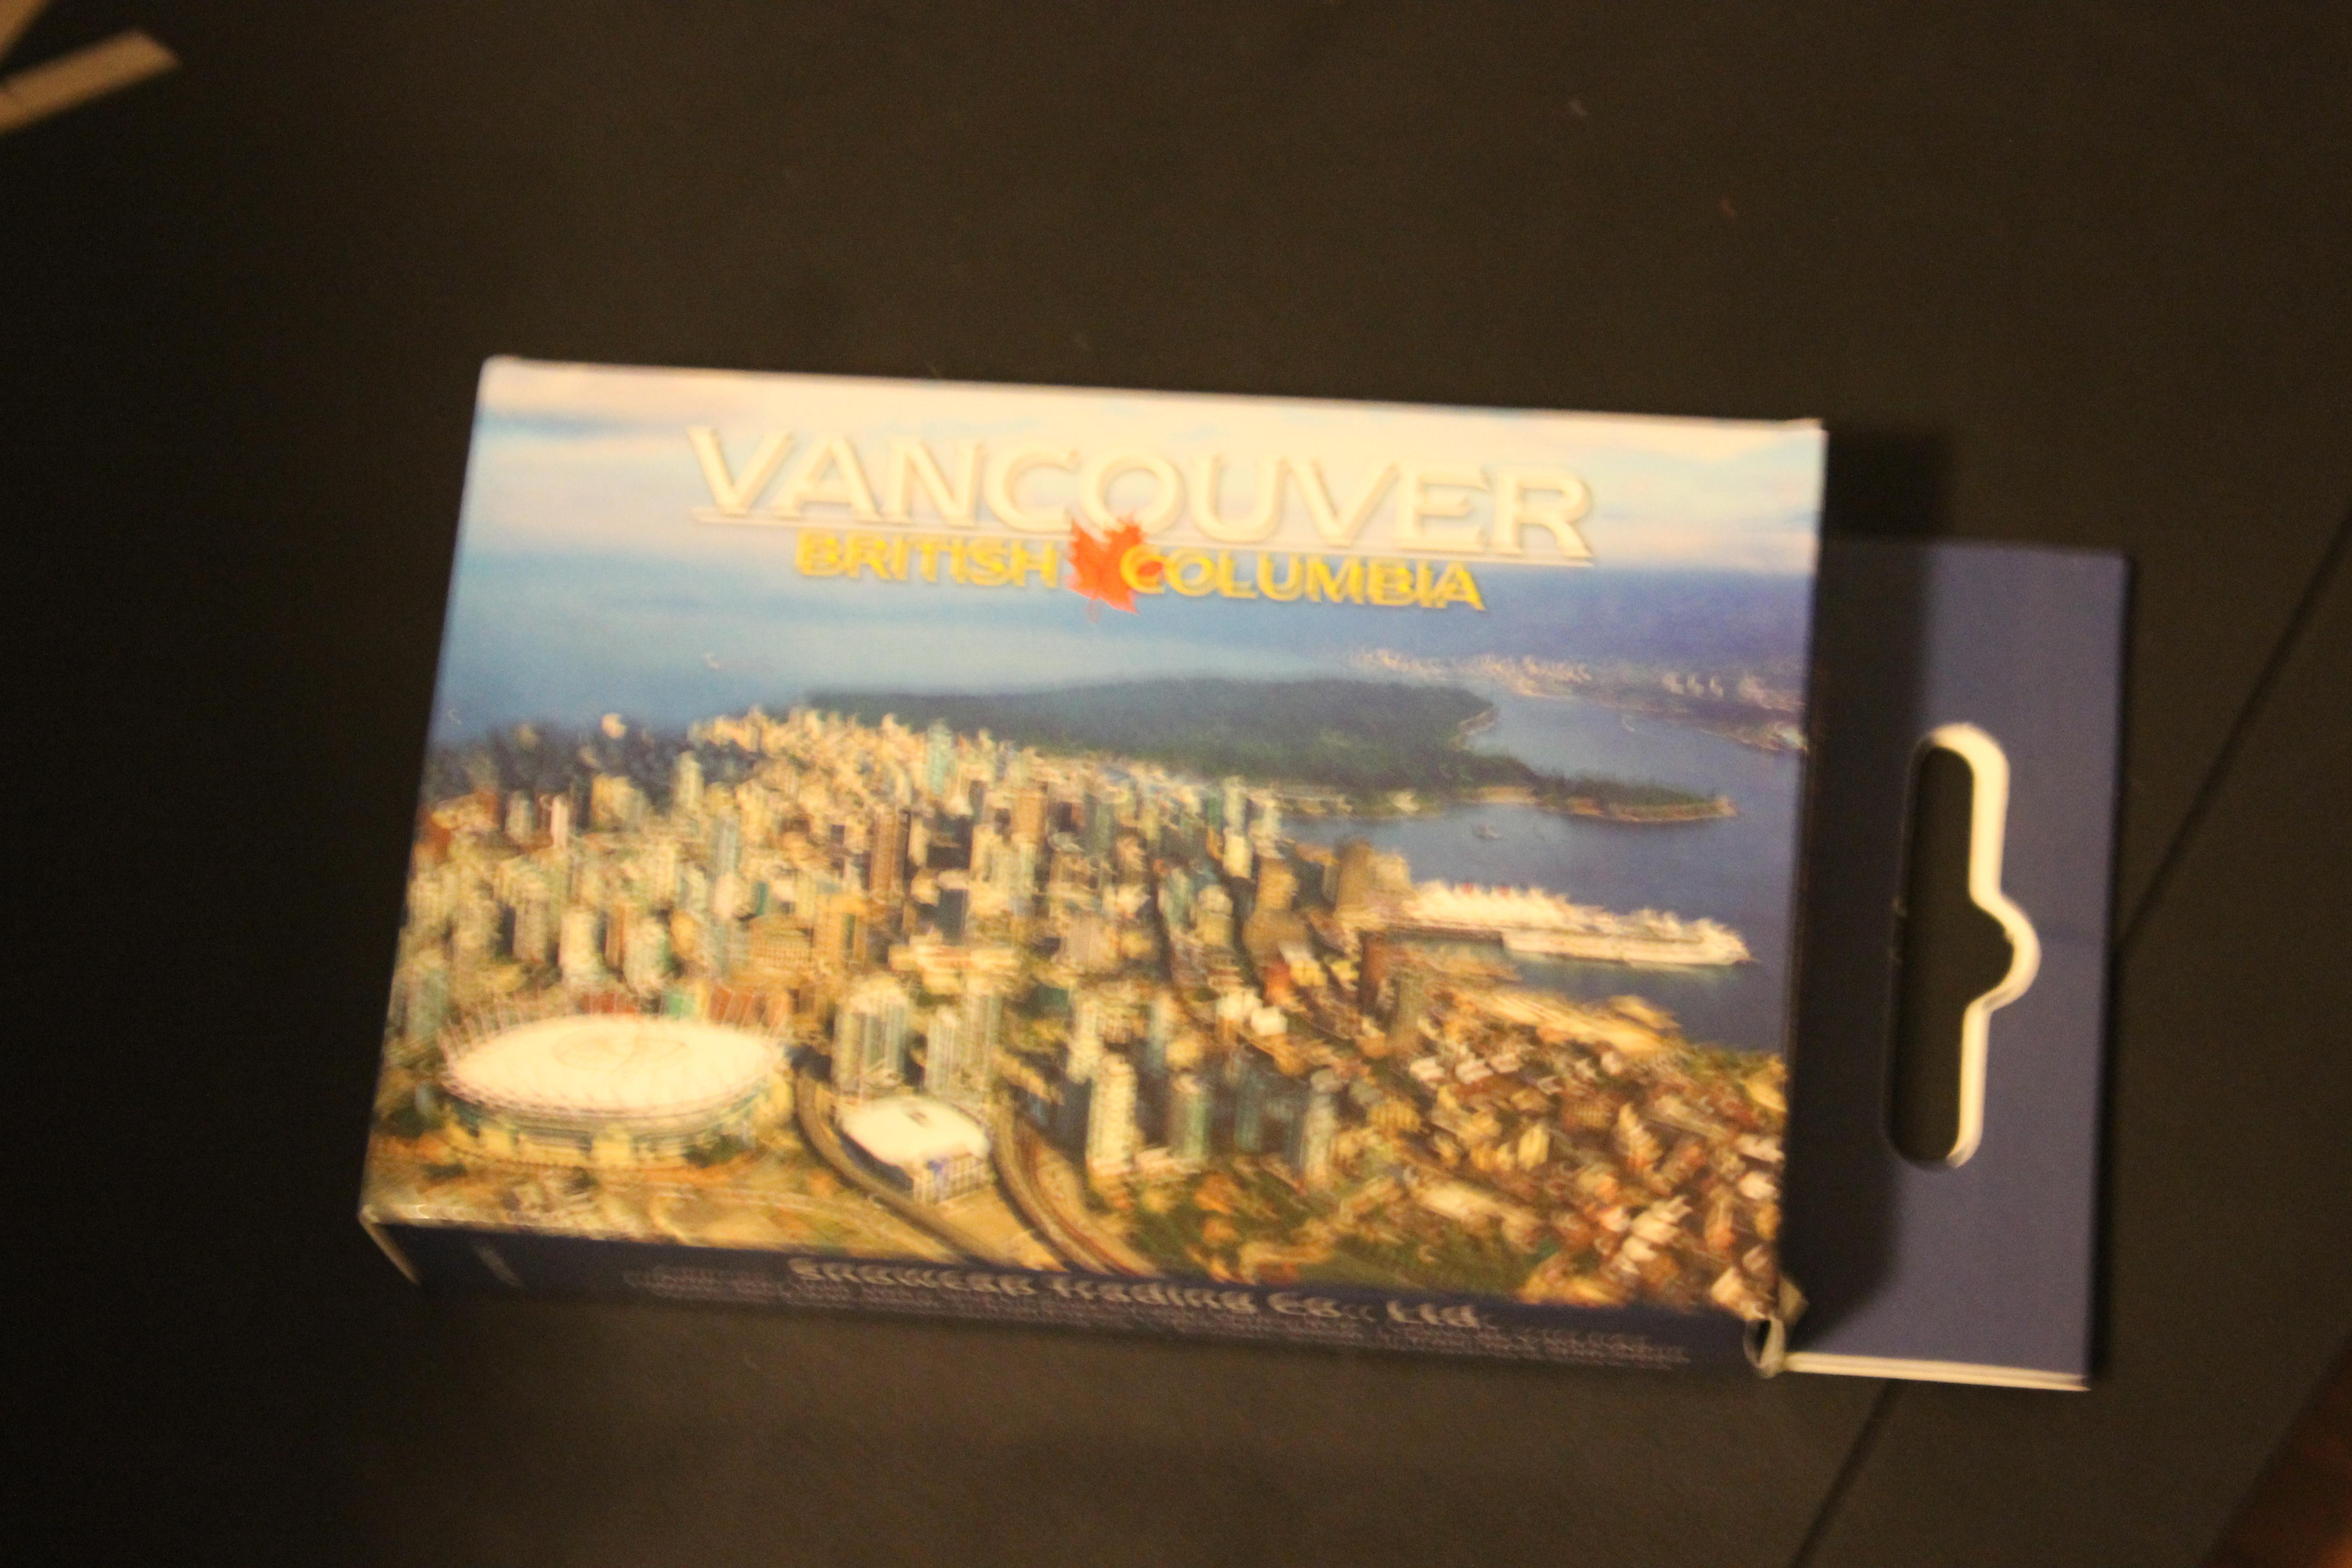vancouverCards: (311, 285, 2166, 1447)
